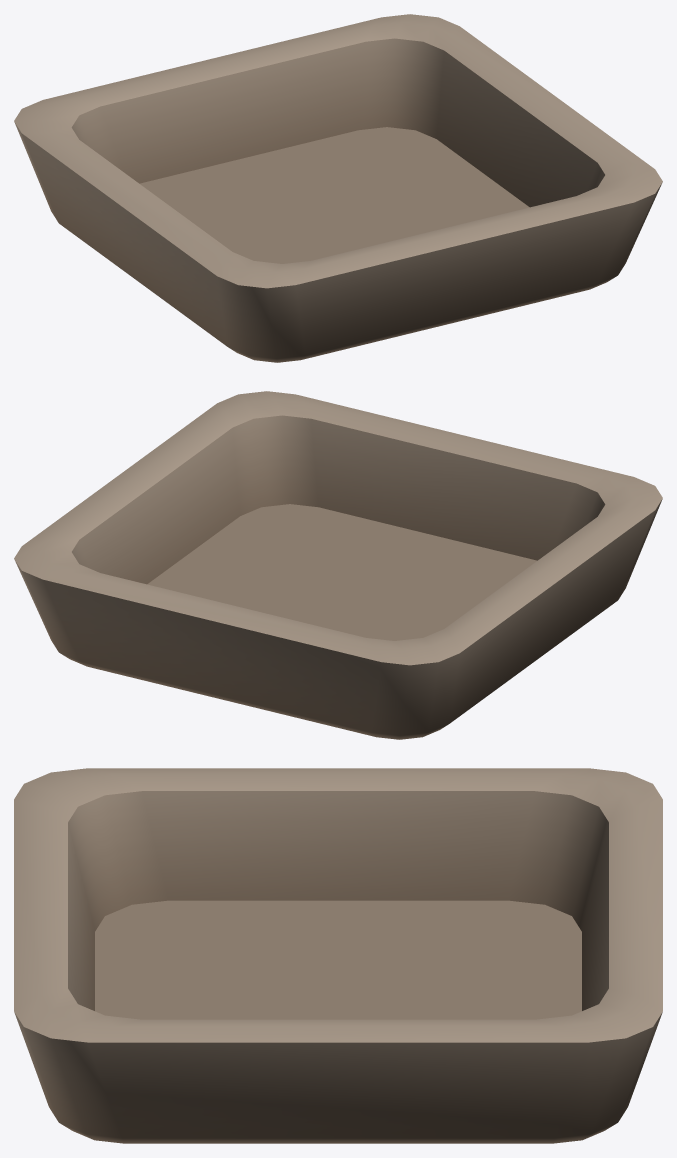
File: container_a.glb
3 views of the same model, one above another, from view 1: azimuth 30°, elevation 25°; view 2: azimuth 150°, elevation 25°; view 3: azimuth 270°, elevation 25° (orthographic). The views are drawn at different scales.
Parts seen in each view (by area): view 1: container_A; view 2: container_A; view 3: container_A.
Part boxes in pixels (<box>): container_A: <box>14,14,662,362</box>; container_A: <box>14,391,662,739</box>; container_A: <box>14,768,662,1143</box>.
Size of the model in its own units: 2.4 by 0.52 by 2.4.
1 material, 1 textured.
